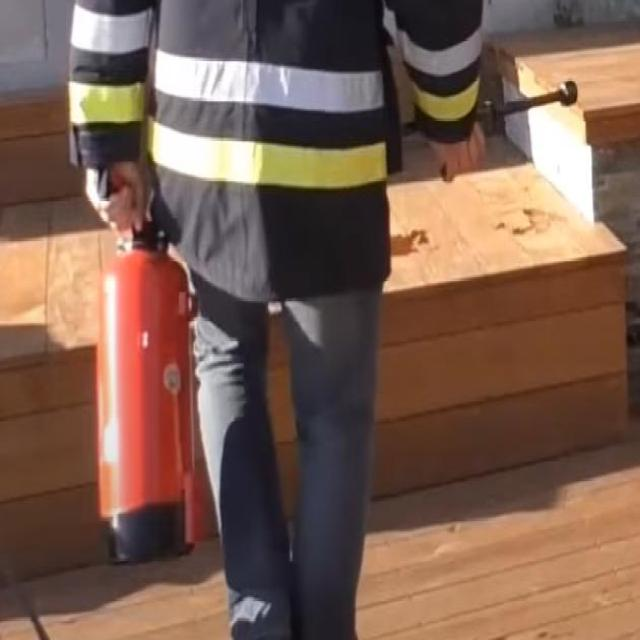fire_extinguisher: (83, 68, 582, 574)
